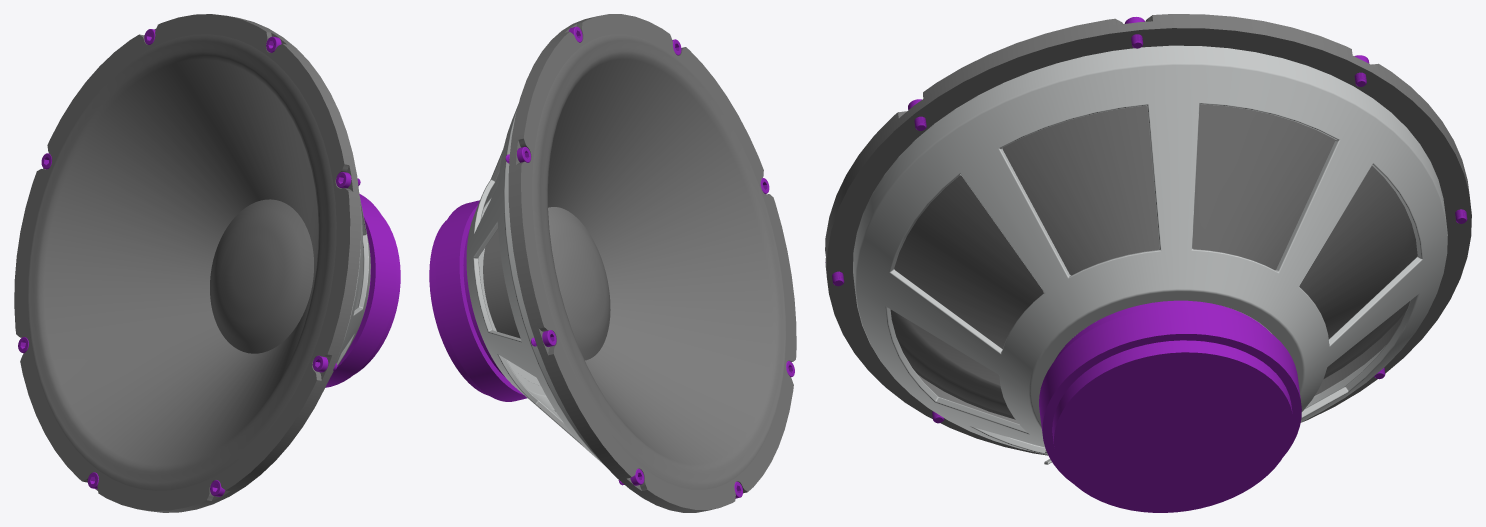
3 renders of one model, left to right at view 1: azimuth 30°, elevation 25°; view 2: azimuth 150°, elevation 25°; view 3: azimuth 270°, elevation 25°, orthographic. The views are drawn at different scales.
Parts seen in each view (by area): view 1: Membran, Magnet, Frame, Bolt.X8; view 2: Membran, Frame, Magnet, Bolt.X8; view 3: Membran, Frame, Magnet, Bolt.X8.
Boxes of the visible parts, <box> form: Membran: <box>14,14,360,512</box>; Magnet: <box>325,193,400,387</box>; Frame: <box>327,196,370,382</box>; Bolt.X8: <box>18,29,360,496</box>; Membran: <box>483,14,796,512</box>; Frame: <box>466,104,603,464</box>; Magnet: <box>429,200,527,401</box>; Bolt.X8: <box>505,26,794,498</box>; Membran: <box>825,14,1471,455</box>; Frame: <box>853,45,1447,464</box>; Magnet: <box>1039,300,1301,512</box>; Bolt.X8: <box>825,17,1467,423</box>.
Bounding box in the file's own units: 1.6 × 2.24 × 2.41.
